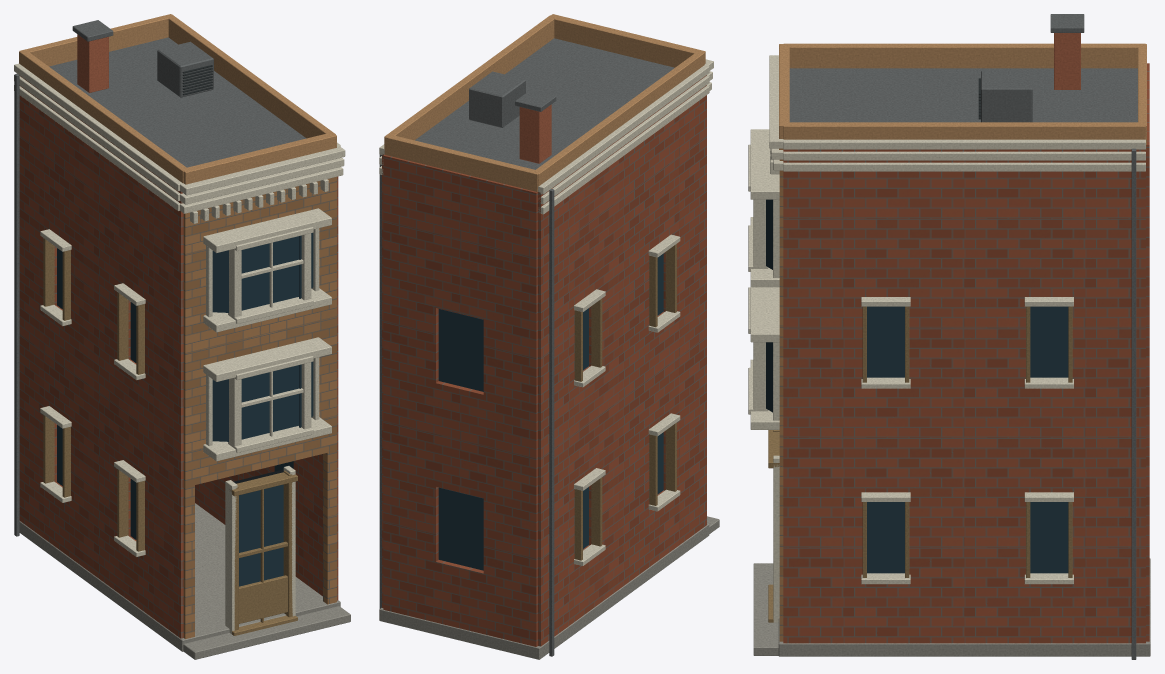
File: RUNDWN14_lod1.glb
3 renders of one model, left to right at view 1: azimuth 30°, elevation 25°; view 2: azimuth 150°, elevation 25°; view 3: azimuth 270°, elevation 25°, orthographic. The views are drawn at different scales.
Parts seen in each view (by area): view 1: RUNDWN14_LOD1; view 2: RUNDWN14_LOD1; view 3: RUNDWN14_LOD1.
Boxes of the visible parts, x1,y1,x2,y2 form: RUNDWN14_LOD1: (14, 14, 350, 659); RUNDWN14_LOD1: (379, 14, 719, 659); RUNDWN14_LOD1: (748, 14, 1150, 659).
Bounding box in the file's own units: 3.71 × 10.45 × 6.65.
Materials: 11 (9 with a texture image).
